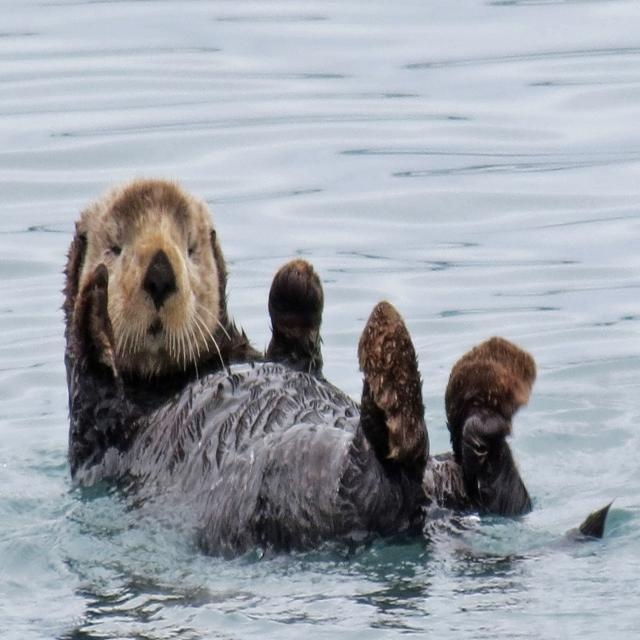otter: (63, 179, 537, 554)
